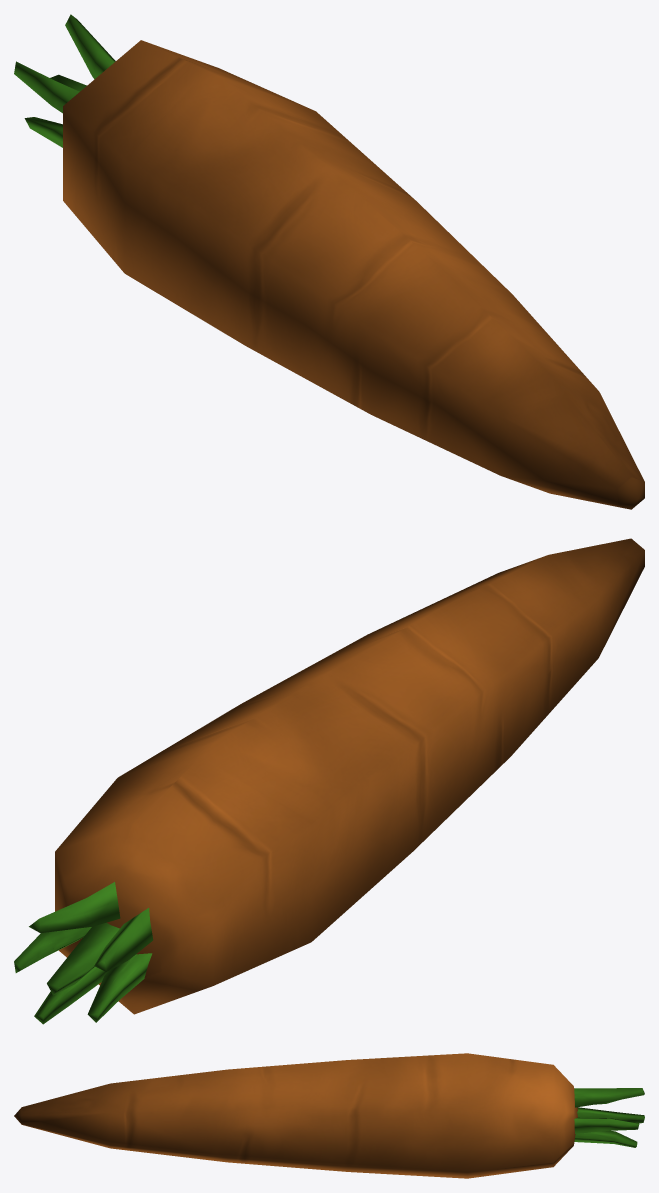
File: Carrot01.fbx
3 renders of one model, top to bottom at view 1: azimuth 30°, elevation 25°; view 2: azimuth 150°, elevation 25°; view 3: azimuth 270°, elevation 25°, orthographic. The views are drawn at different scales.
Parts seen in each view (by area): view 1: Carrot01_LOD0; view 2: Carrot01_LOD0; view 3: Carrot01_LOD0.
Boxes of the visible parts, x1=… form: Carrot01_LOD0: x1=14, y1=14, x2=644, y2=509; Carrot01_LOD0: x1=14, y1=538, x2=644, y2=1024; Carrot01_LOD0: x1=14, y1=1053, x2=644, y2=1178.
Size of what is drawn, in the model's own units: 6.29 by 7.26 by 33.12.
